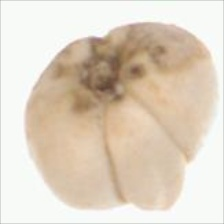L5: (101, 92, 192, 214), (55, 27, 166, 110)
L6: (20, 21, 219, 214)
